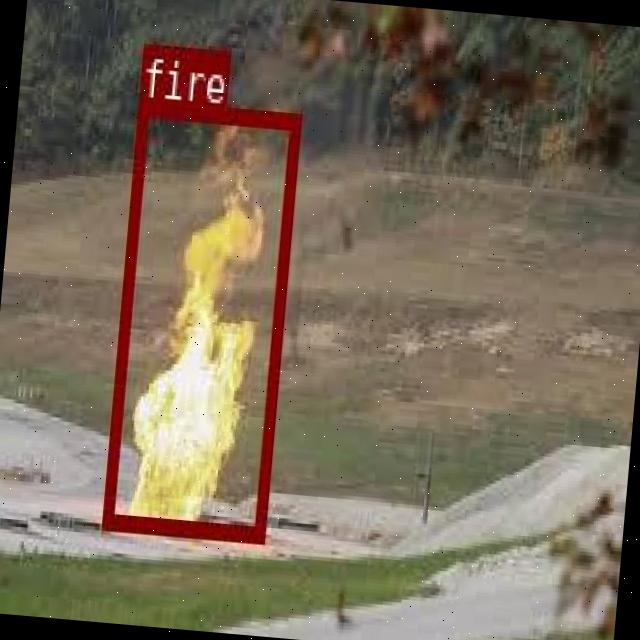fire: (100, 97, 300, 541)
